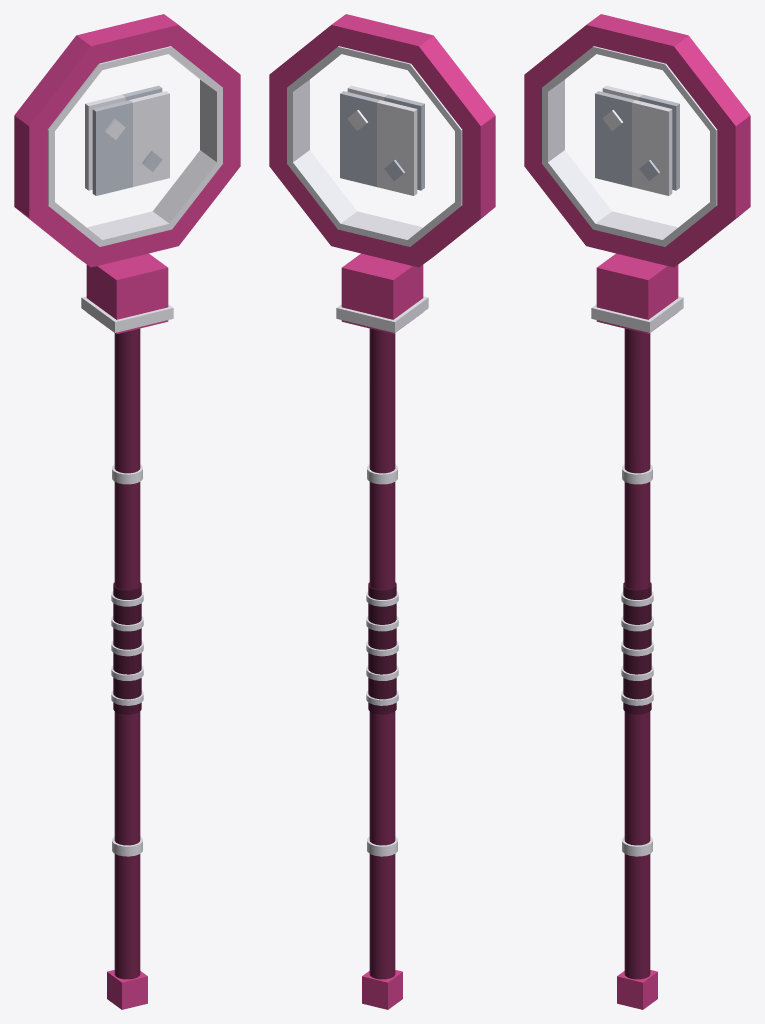
The picture shows the model from 3 angles, left to right: view 1: azimuth 30°, elevation 25°; view 2: azimuth 150°, elevation 25°; view 3: azimuth 330°, elevation 25°; orthographic projection.
Visible parts, largest first — view 1: equinox-scepter; view 2: equinox-scepter; view 3: equinox-scepter.
Part boxes in pixels (left/top/right/bottom): equinox-scepter: left=14, top=14, right=240, bottom=1009; equinox-scepter: left=269, top=14, right=495, bottom=1009; equinox-scepter: left=524, top=14, right=750, bottom=1009.
Size of the model in its own units: 0.3499 by 1.53 by 0.0966.
